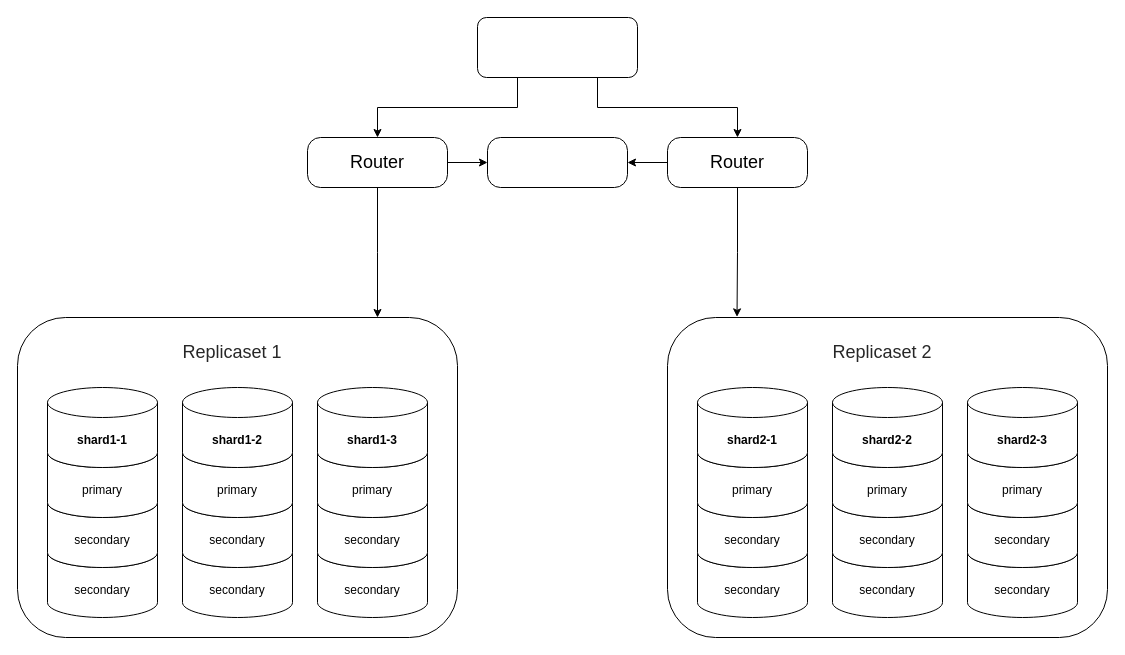
Some shapes in this 1125 by 655 pixel diagram are drawn without their labels. The box of each missing label's shape, as (x1, y1, x2, y2) in pixels:
configServer: (486, 136, 628, 188)
pymongo-api: (476, 16, 638, 78)
